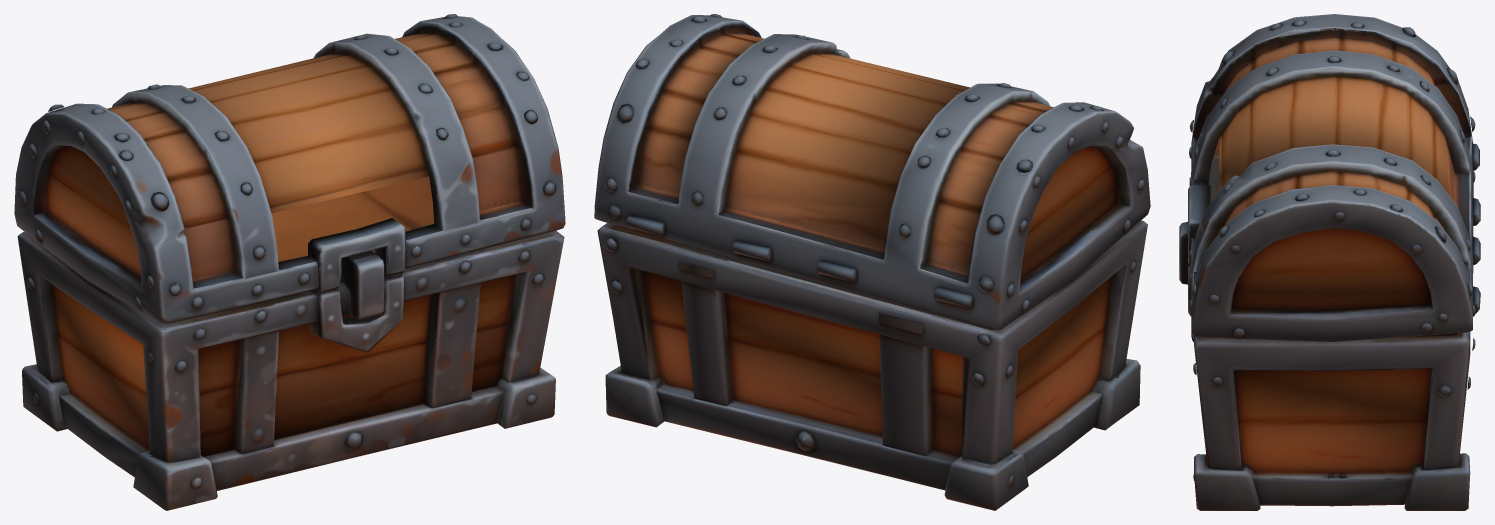
File: selected.glb
3 renders of one model, left to right at view 1: azimuth 30°, elevation 25°; view 2: azimuth 150°, elevation 25°; view 3: azimuth 270°, elevation 25°, orthographic. The views are drawn at different scales.
Visible parts, largest first — view 1: tripo_node_a8a3f23f-fcdf-4c6f-b213-42b49aa84983; view 2: tripo_node_a8a3f23f-fcdf-4c6f-b213-42b49aa84983; view 3: tripo_node_a8a3f23f-fcdf-4c6f-b213-42b49aa84983.
Boxes of the visible parts, x1,y1,x2,y2 form: tripo_node_a8a3f23f-fcdf-4c6f-b213-42b49aa84983: (14,14,565,510); tripo_node_a8a3f23f-fcdf-4c6f-b213-42b49aa84983: (594,14,1150,510); tripo_node_a8a3f23f-fcdf-4c6f-b213-42b49aa84983: (1179,14,1480,510).
Bounding box in the file's own units: 0.998 × 0.791 × 0.6738.
Materials: 1 (1 with a texture image).
